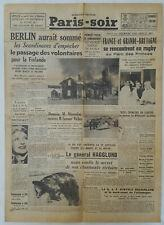paper: (6, 5, 162, 222)
